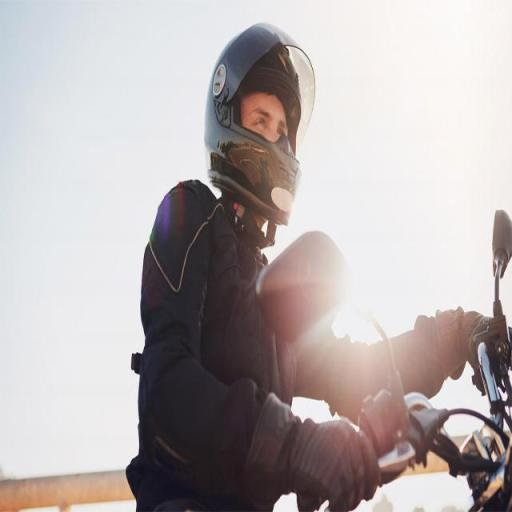Helmet: (192, 20, 308, 214)
